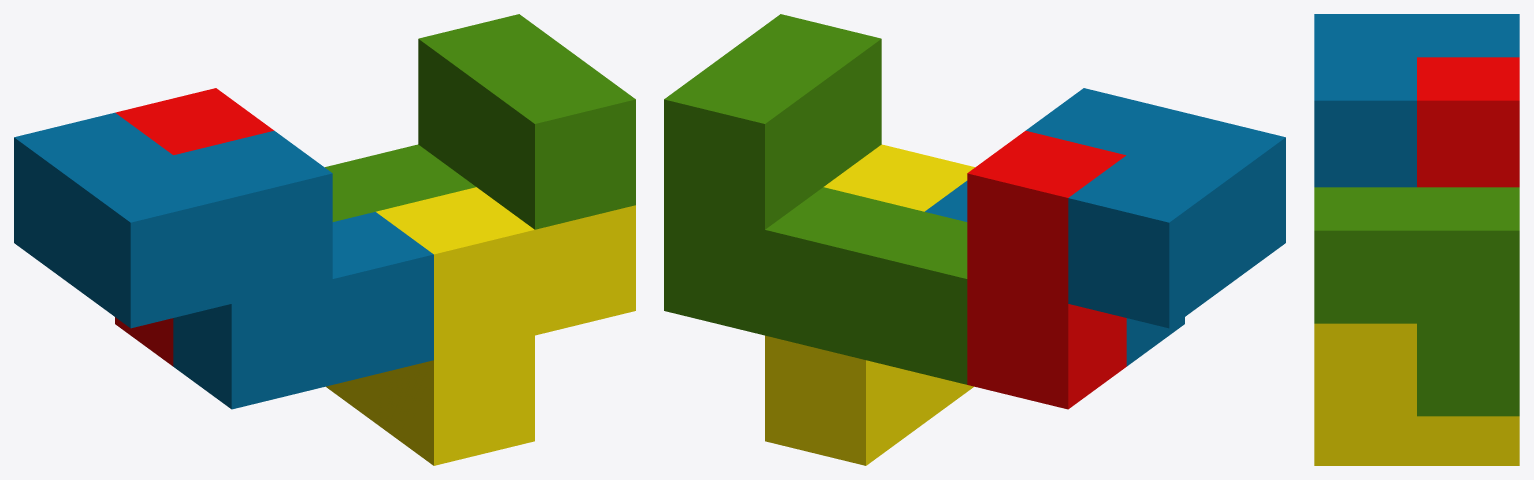
3 views of the same model, side by side, from view 1: azimuth 30°, elevation 25°; view 2: azimuth 150°, elevation 25°; view 3: azimuth 270°, elevation 25° (orthographic). The views are drawn at different scales.
Parts seen in each view (by area): view 1: mergedBlocks(Clone); view 2: mergedBlocks(Clone); view 3: mergedBlocks(Clone).
Part boxes in pixels (bbox=[...]): mergedBlocks(Clone): bbox=[14, 14, 635, 465]; mergedBlocks(Clone): bbox=[664, 14, 1285, 465]; mergedBlocks(Clone): bbox=[1314, 14, 1519, 465].
Size of the model in its own units: 5 by 3 by 2.
Materials: 4 (4 with a texture image).
